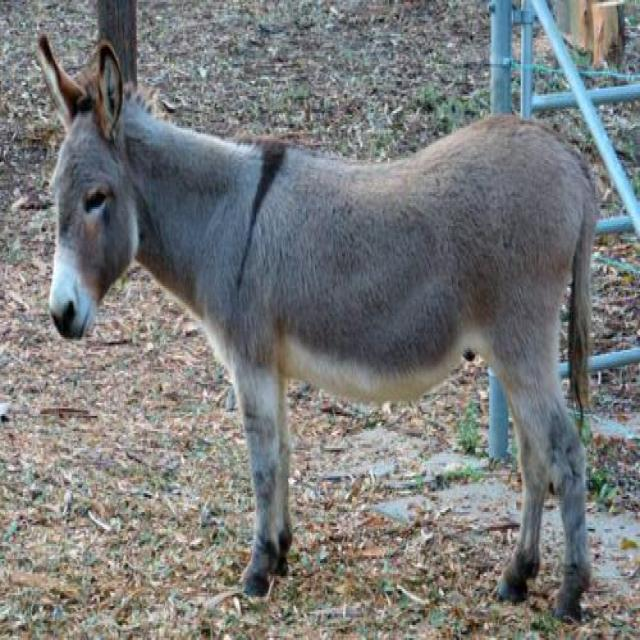Donkey: (36, 34, 594, 620)
